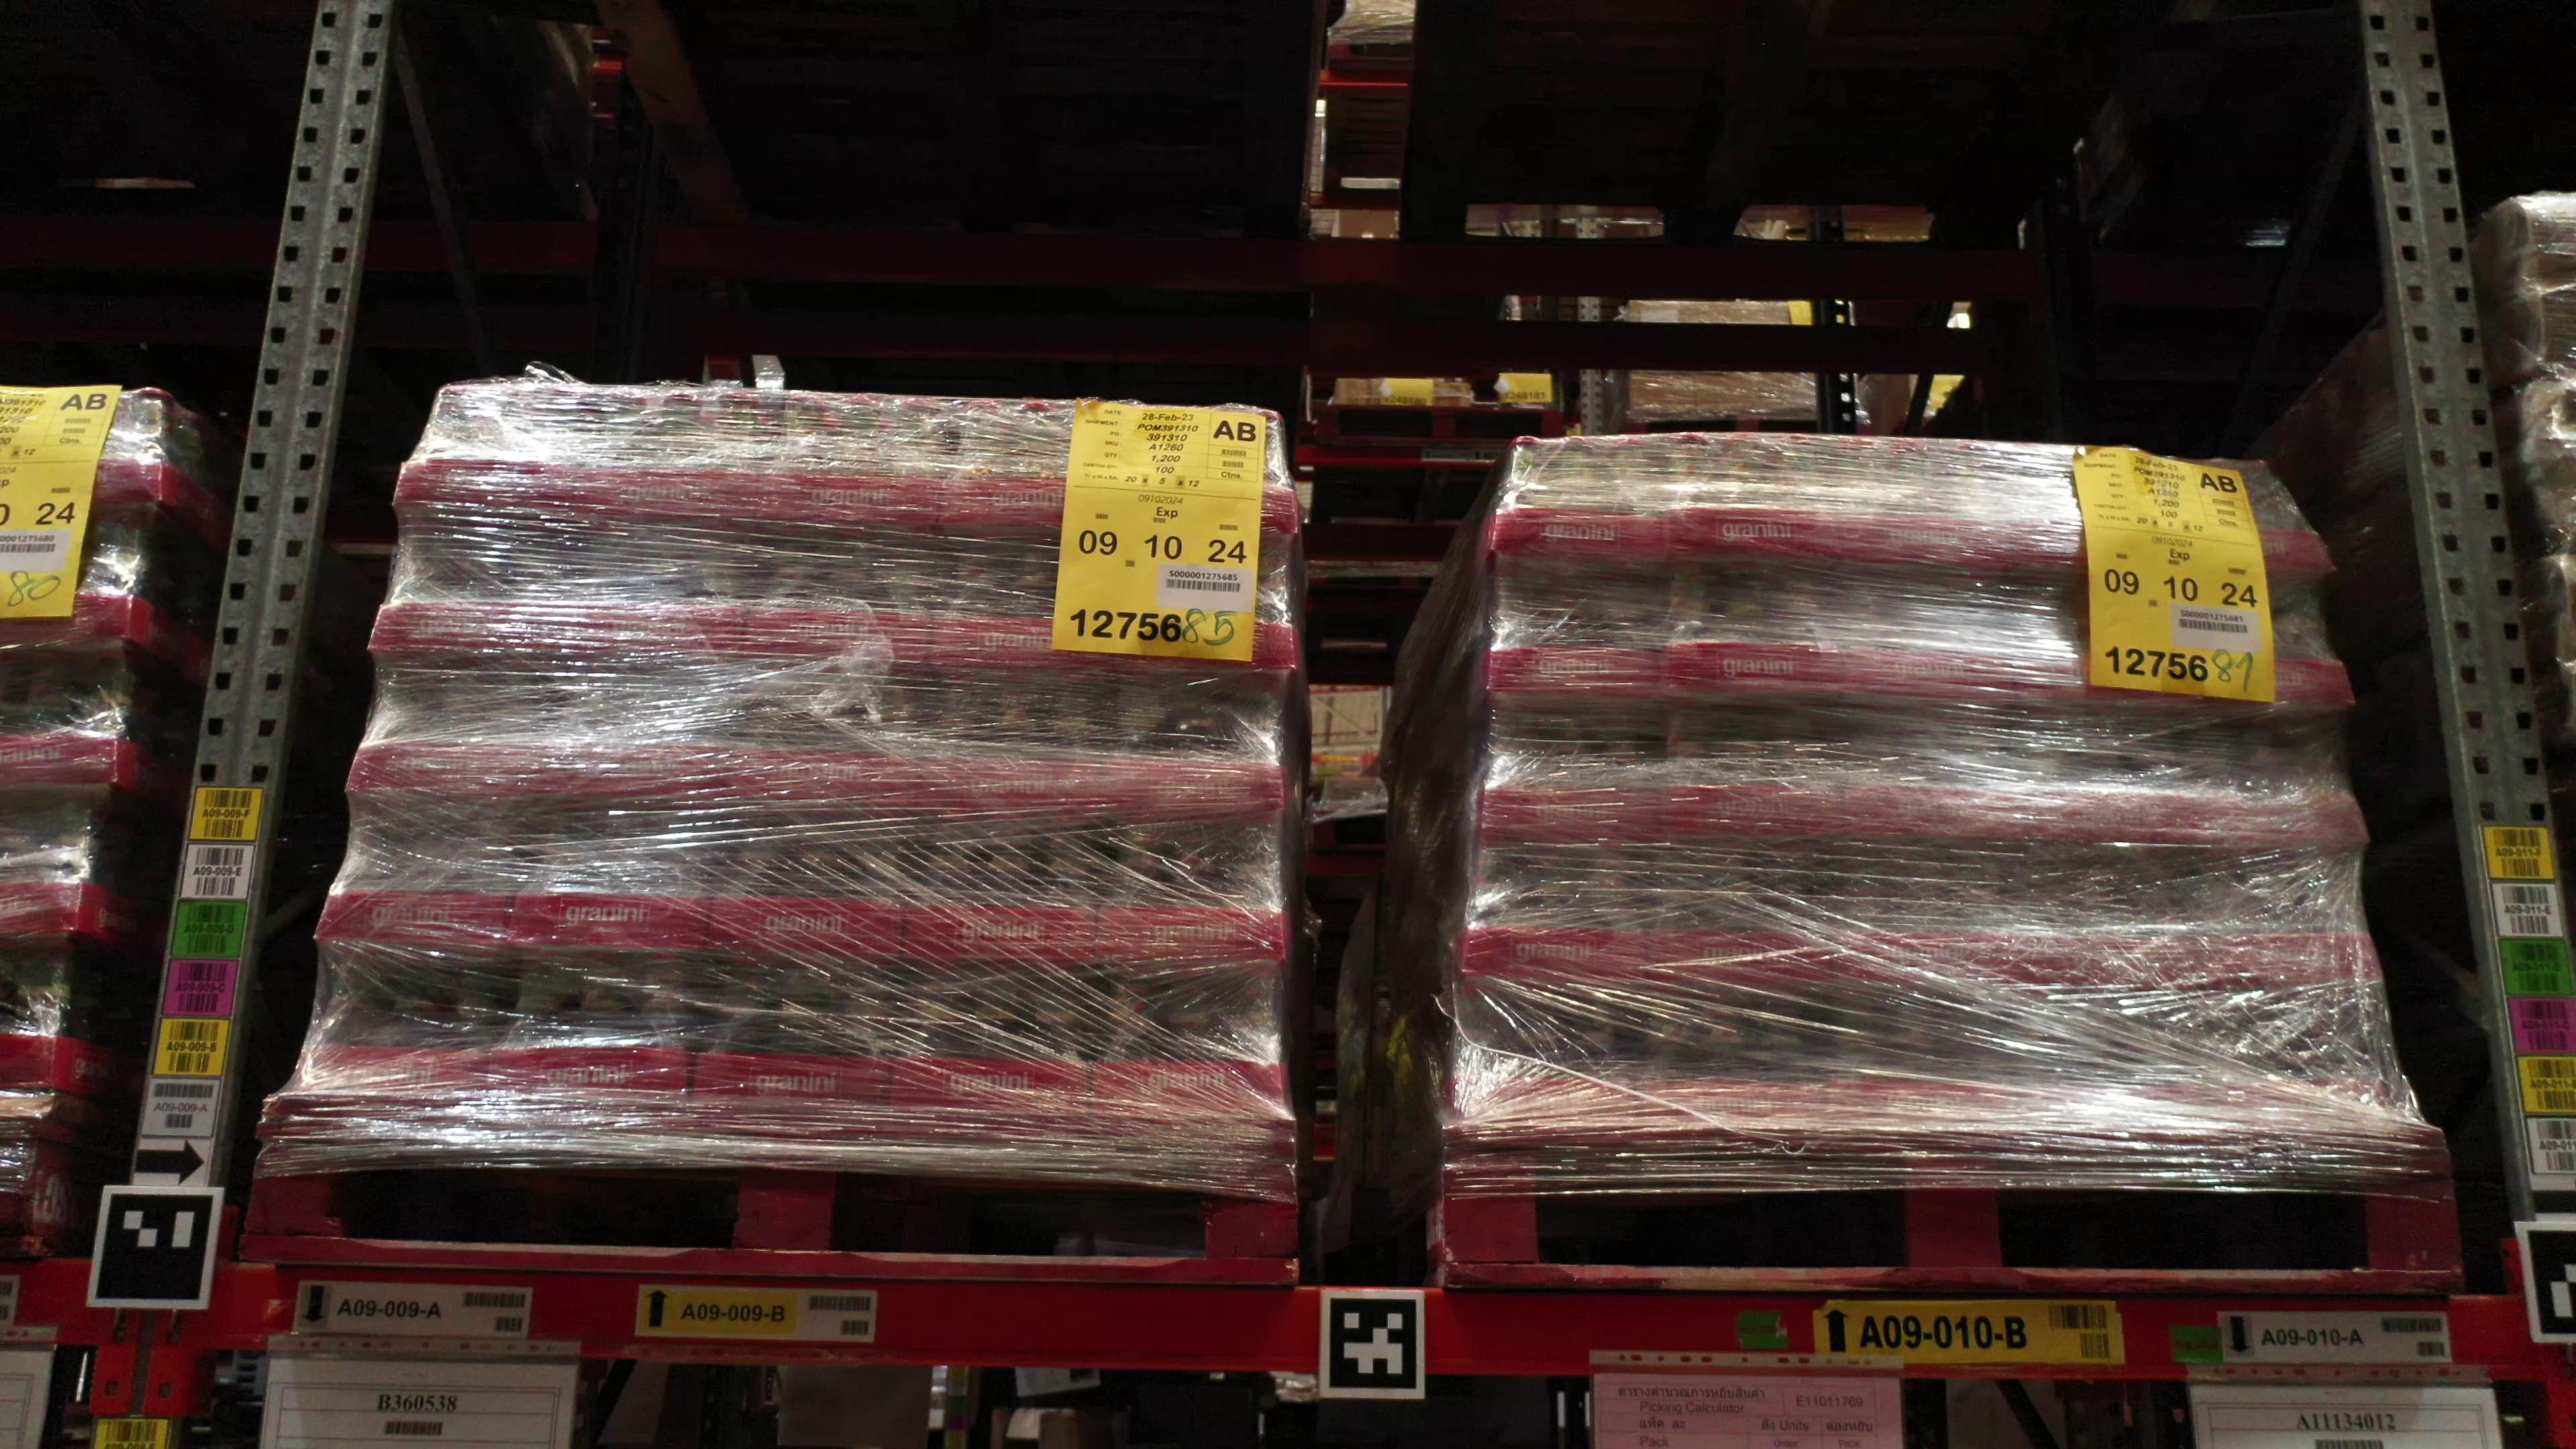-: (295, 947, 510, 1108), (481, 955, 694, 1116), (506, 805, 720, 957), (681, 959, 897, 1108), (892, 961, 1095, 1118), (366, 515, 573, 669), (908, 678, 1116, 824), (317, 805, 525, 952), (1460, 977, 1651, 1136), (2008, 855, 2204, 1007), (738, 531, 941, 678), (1651, 982, 1840, 1138), (557, 524, 748, 678), (347, 662, 552, 805), (908, 823, 1102, 973), (709, 812, 906, 961), (2210, 998, 2424, 1134), (2185, 709, 2373, 863), (757, 389, 961, 531), (1093, 971, 1288, 1118), (391, 387, 602, 520), (1095, 678, 1281, 828), (541, 663, 736, 807), (1481, 701, 1670, 847), (1483, 557, 1670, 704), (932, 534, 1122, 679), (1833, 849, 2006, 1007), (2201, 855, 2387, 1001), (1093, 828, 1288, 968), (1463, 847, 1652, 991), (1670, 554, 1847, 706), (727, 676, 915, 819), (1836, 993, 2026, 1134), (1842, 704, 2028, 847), (1651, 846, 1831, 993), (943, 396, 1134, 534), (2017, 709, 2197, 855), (582, 389, 771, 527), (2024, 1003, 2219, 1136), (1668, 706, 1845, 847), (2150, 458, 2341, 587), (2008, 570, 2178, 715), (1118, 540, 1293, 678), (1847, 566, 2015, 709), (2173, 582, 2355, 713), (1118, 407, 1302, 536), (1994, 442, 2164, 582), (1836, 433, 2006, 570), (1497, 435, 1677, 554), (1675, 433, 1842, 561), (0, 517, 152, 653), (9, 389, 166, 510), (0, 653, 127, 791), (0, 796, 94, 943), (0, 943, 69, 1093)
